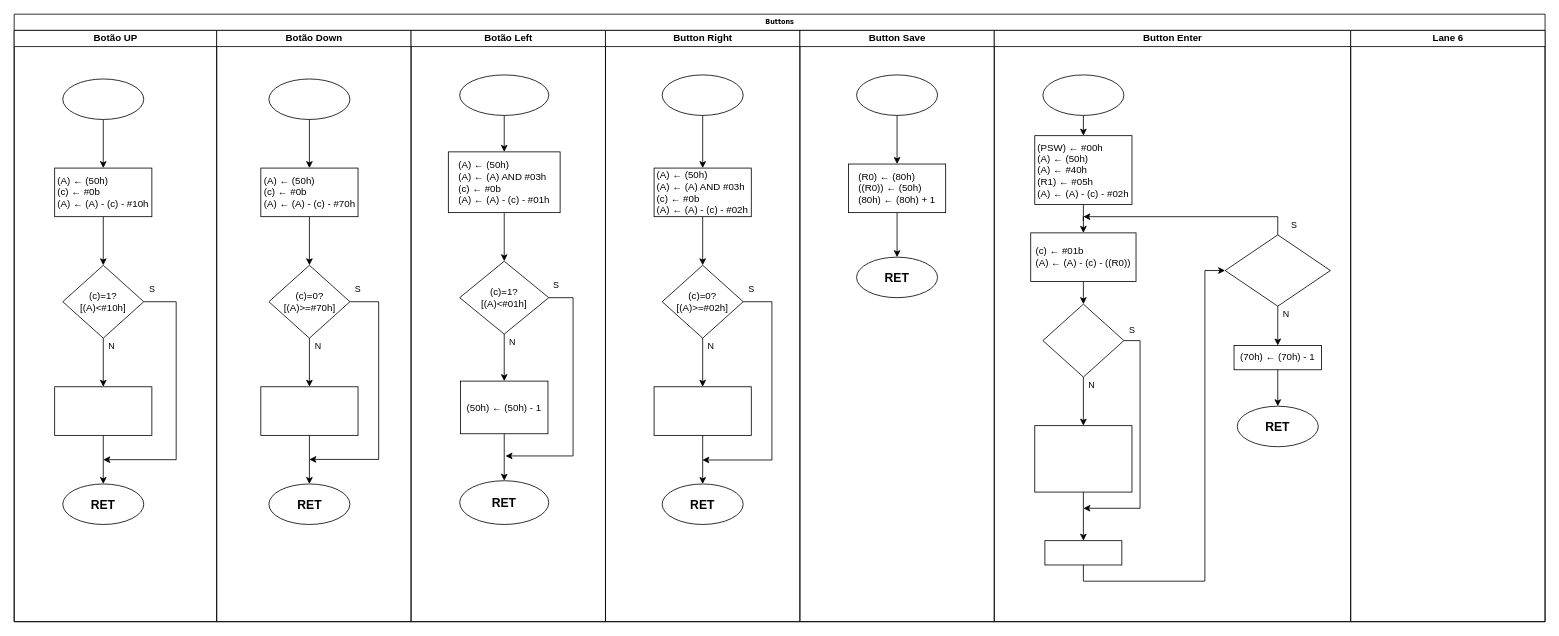
The diagram is 1559 pixels wide and 636 high, and some of its shapes have lost their labels. Each missing label, with the centre of its shape:
"(50h) ← (50h) + 1" belongs at point (702, 410).
"(60h) ← (60h) + 1 (A) ← ((R0)) (ACC.7) ← #01b ((R0)) ← (A) Lcall OLED" belongs at point (1083, 458).
"(A) ← (50h) (A) ← (A) - #10h (50h) ← (A)" belongs at point (103, 410).
"(A) ← (50h) (A) ← (A) - #70h (50h) ← (A)" belongs at point (309, 410).
"(R0) ← (R0) + 1" belongs at point (1083, 552).
"(R1) ← (R1) + 1 (z) != 0?" belongs at point (1277, 270).
"(z)=0? [(A) != ((R0))]" belongs at point (1083, 340).
"BD" belongs at point (309, 98).
"BE" belongs at point (1083, 94).
"BL" belongs at point (504, 94).
"BR" belongs at point (702, 94).
"BS" belongs at point (897, 94).
"BU" belongs at point (103, 98).
